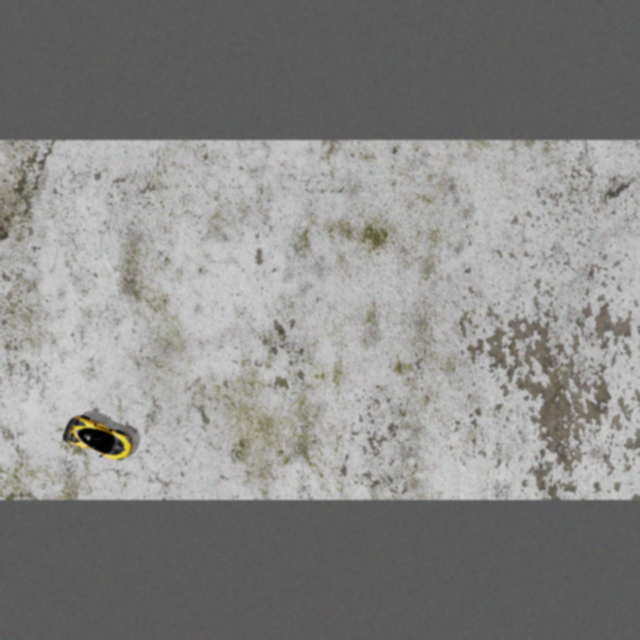car: (59, 410, 138, 467)
